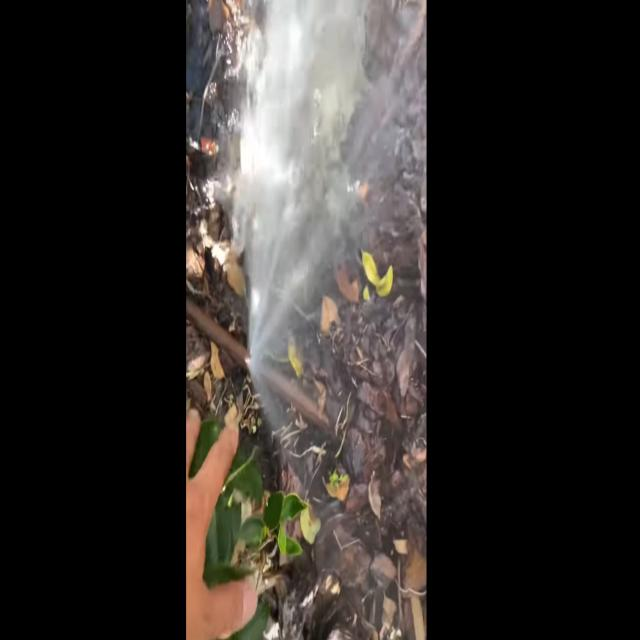leak: (239, 0, 365, 427)
